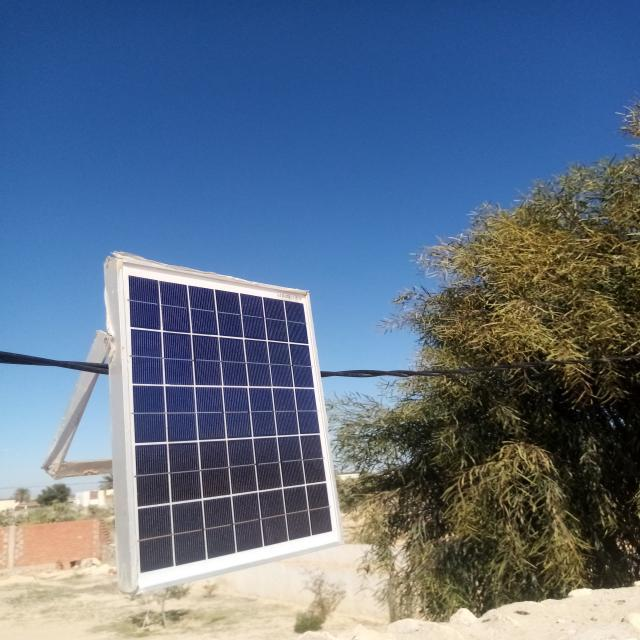Normal Solar Panel: (121, 260, 343, 589)
